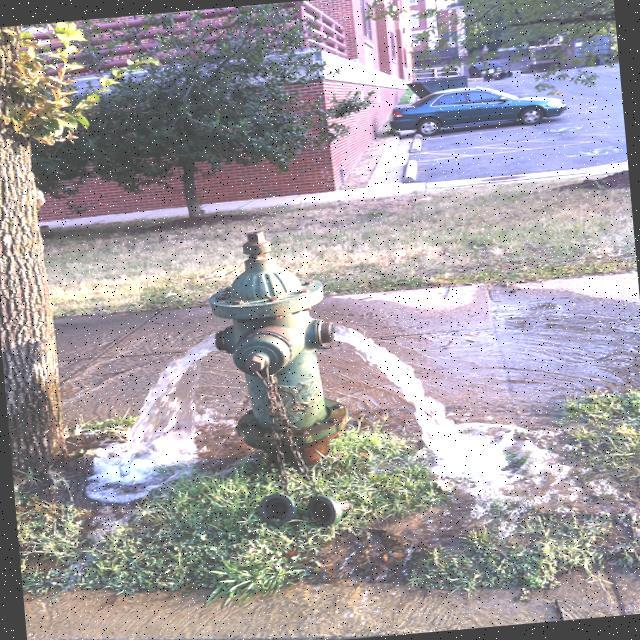fire_hydrant: (204, 224, 348, 469)
